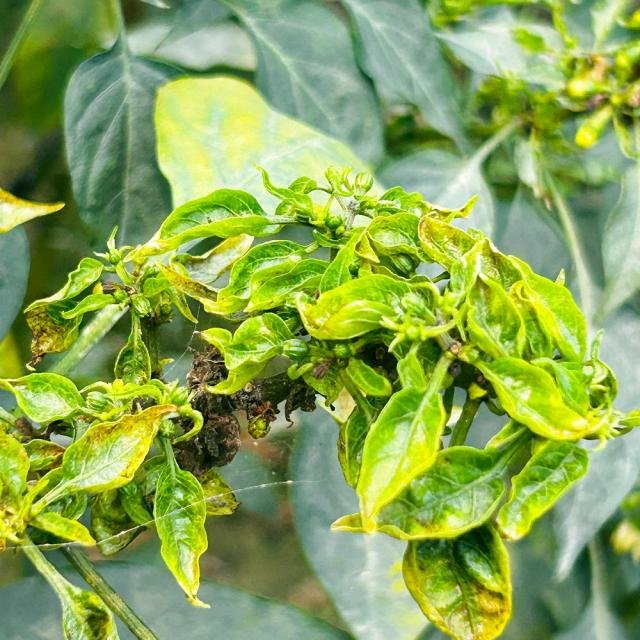Chilli_Leaf_Curl: (1, 163, 638, 638), (2, 400, 181, 552), (400, 523, 512, 639), (151, 435, 211, 609)
